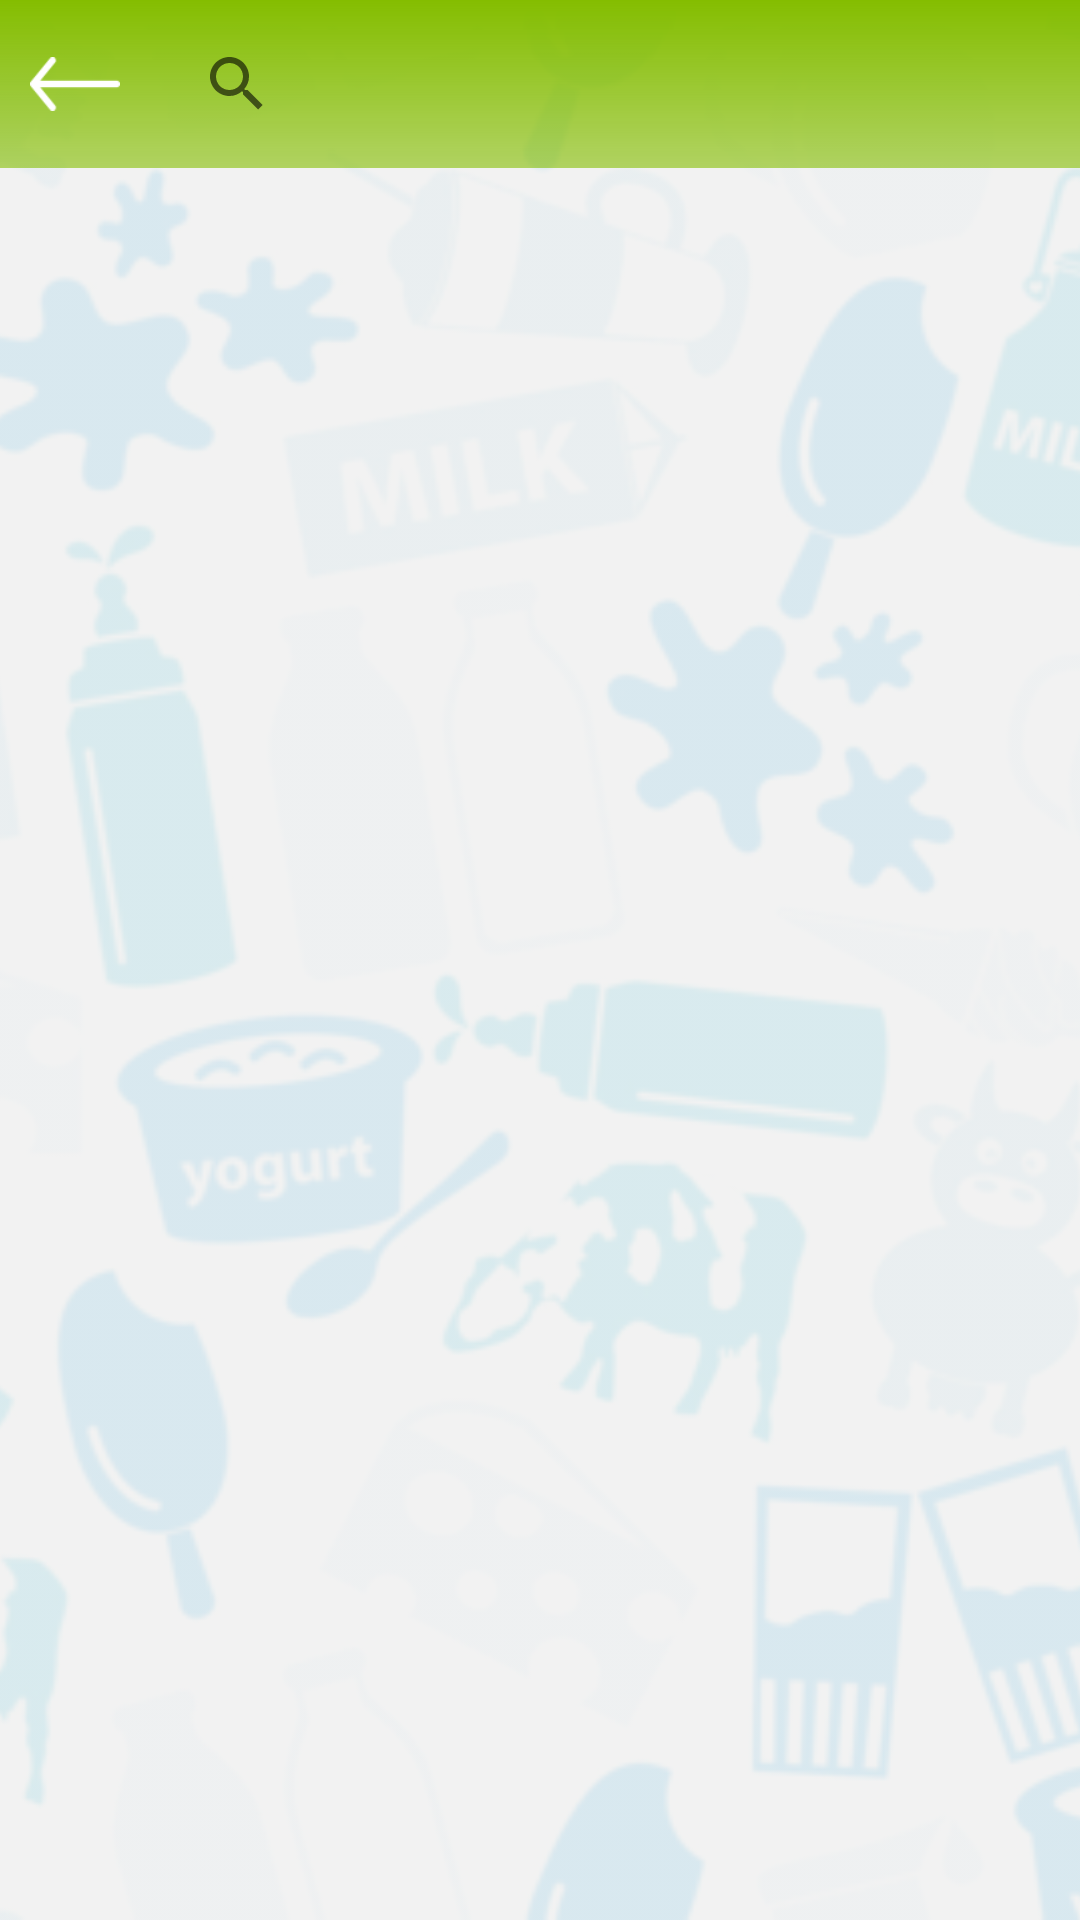

Icons on this 1080w x 1920h Android screen, each with the point to tap as [x,y]:
back: [75,84]
